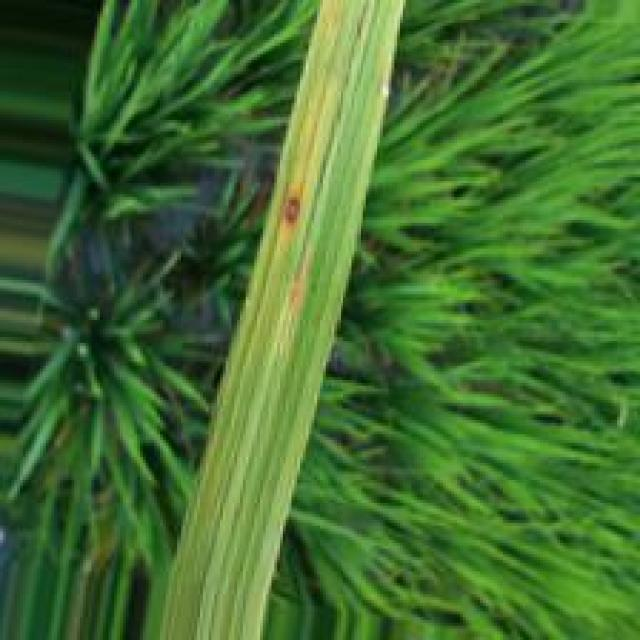Brown_Spot: (286, 193, 302, 228)
